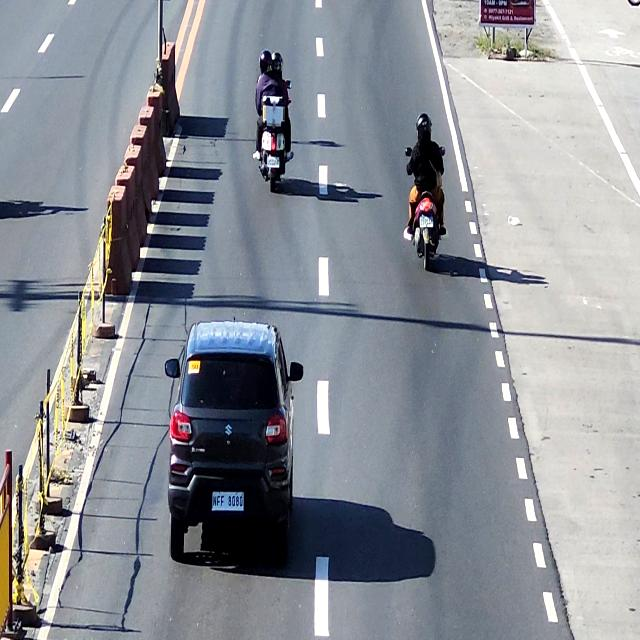Car: (169, 313, 298, 569)
License-Plate: (210, 489, 246, 515), (419, 215, 435, 230), (266, 155, 280, 171)
Motorcycle: (403, 142, 448, 272), (257, 72, 292, 194)
